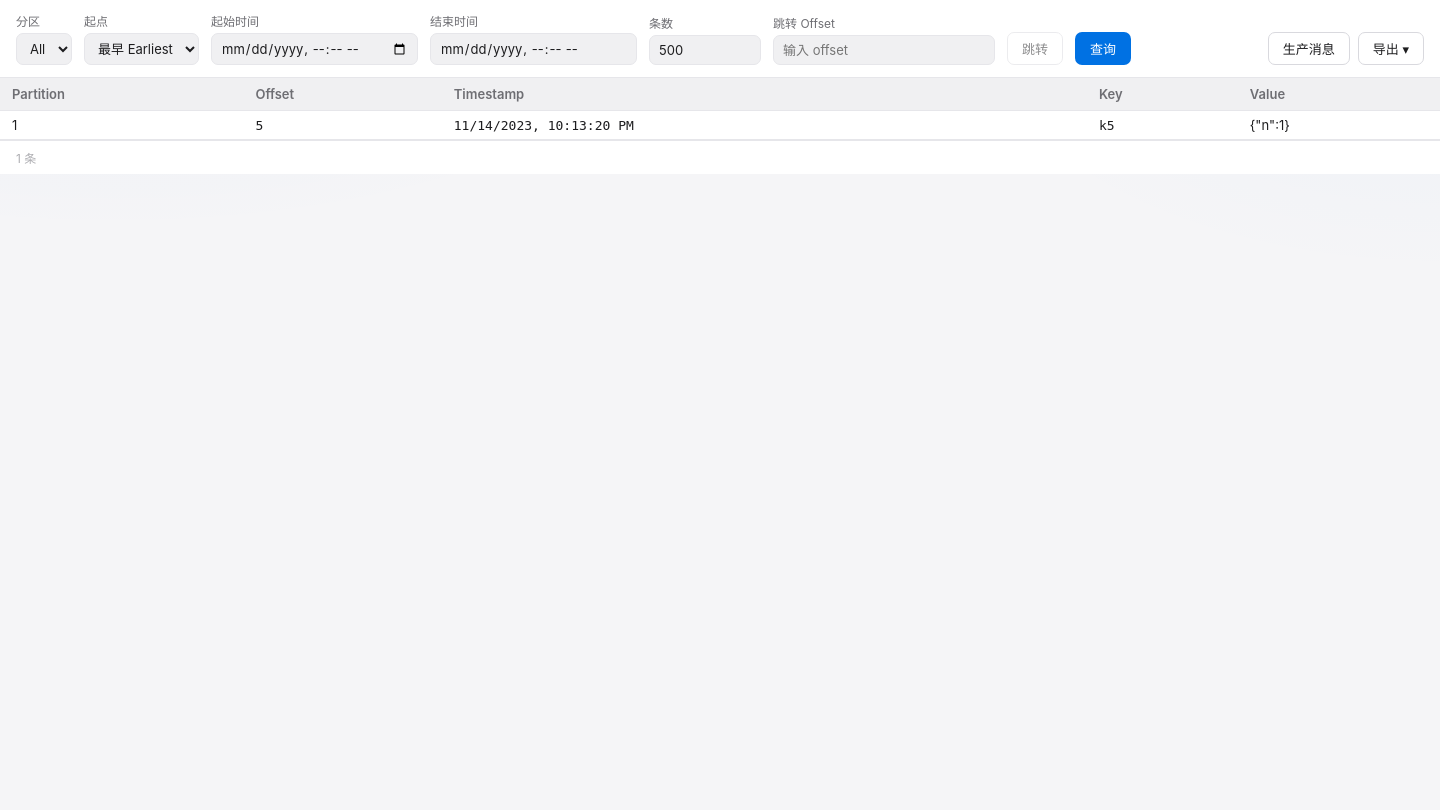
it: MessageBrowser › opens the detail drawer on row click
Click the row with test id "message-row".
click(720, 125)  # box [0,110,1439,140]
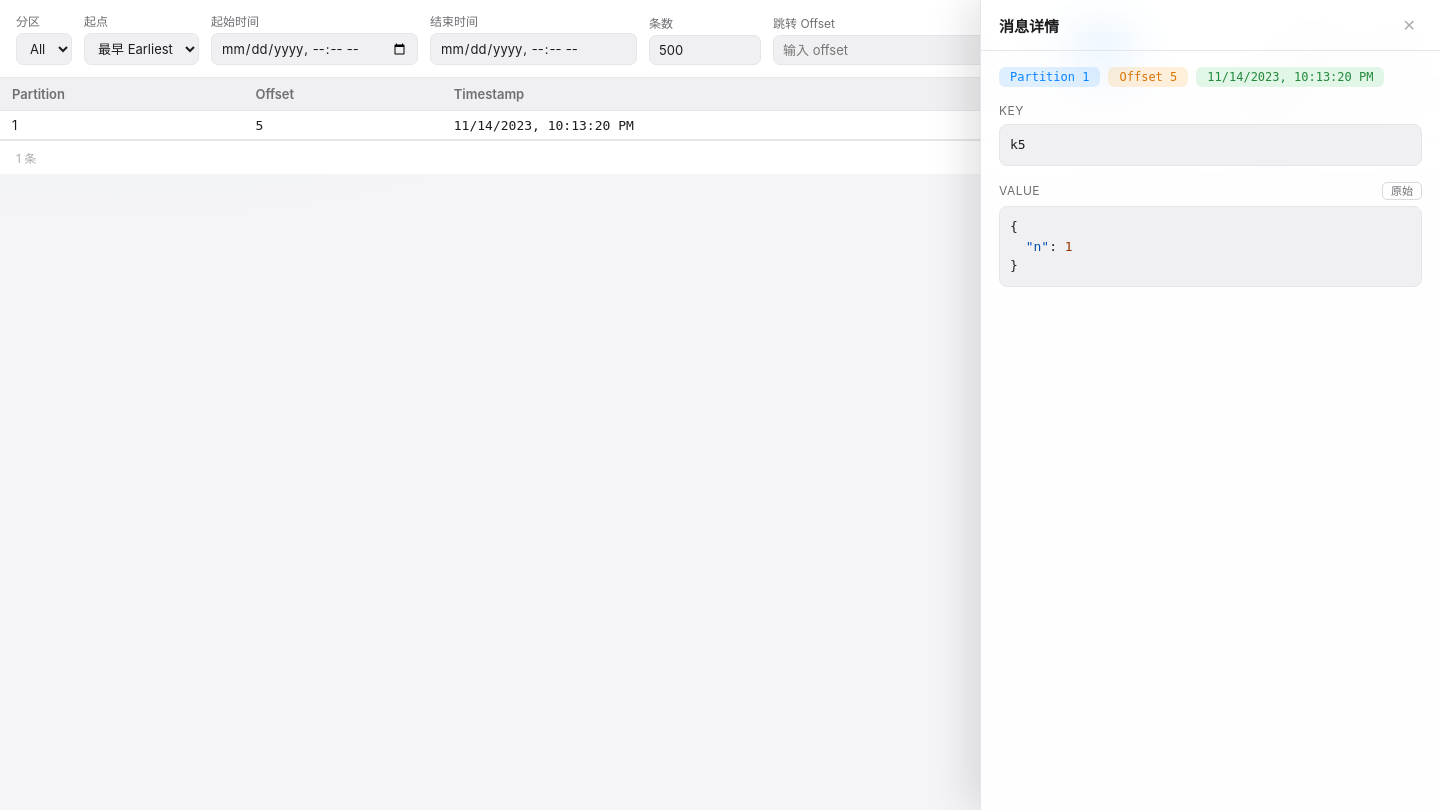
expect the element with test id "message-drawer" is shown: met, box [980,0,1439,809]
expect the text with test id "meta-offset" shows "5": met, box [1120,70,1177,84]
